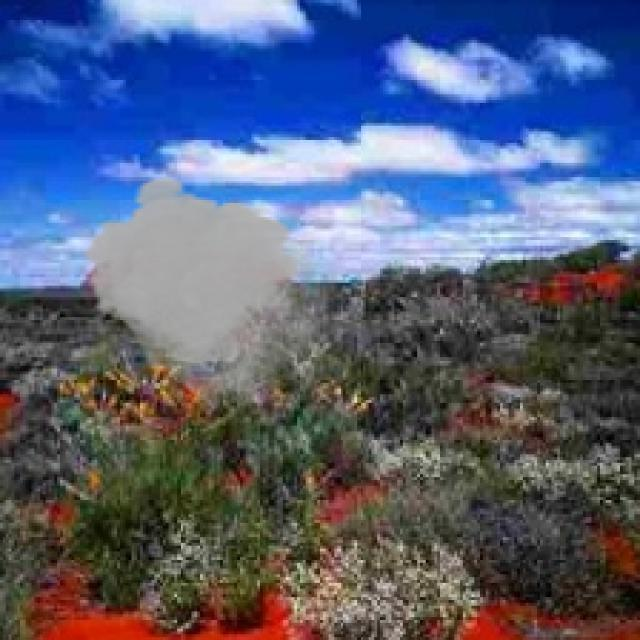Smoke: (80, 174, 320, 414)
